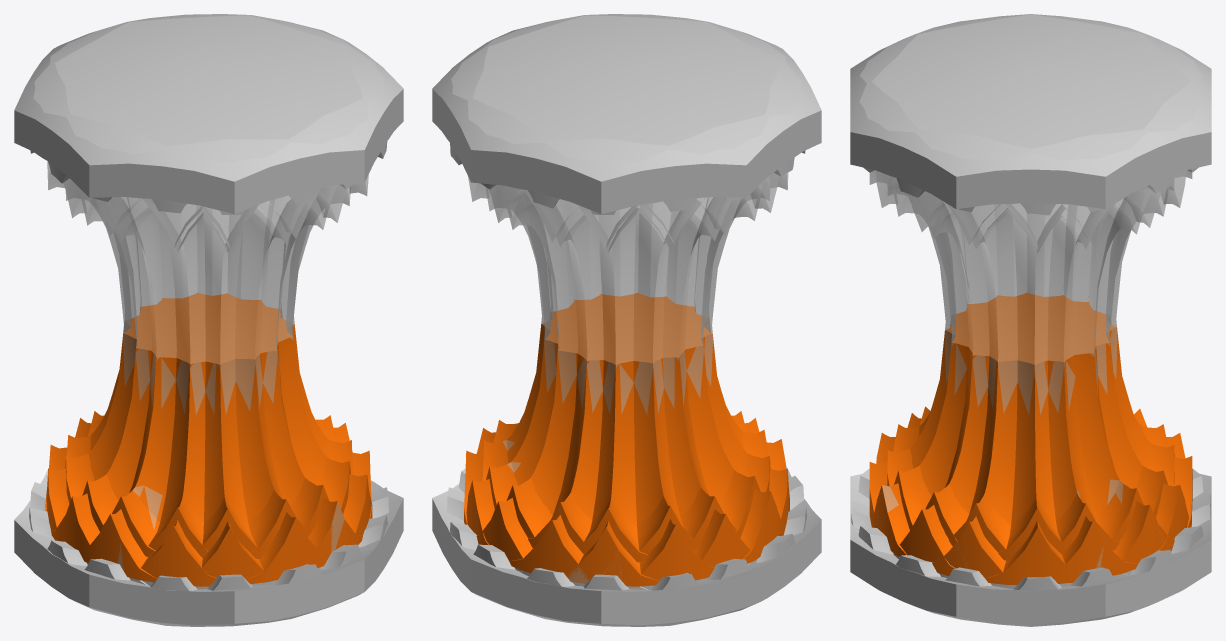
File: Glasshour.obj
3 renders of one model, left to right at view 1: azimuth 30°, elevation 25°; view 2: azimuth 150°, elevation 25°; view 3: azimuth 270°, elevation 25°, orthographic.
Parts seen in each view (by area): view 1: Frame1, Sand1, Glass1; view 2: Frame1, Sand1, Glass1; view 3: Frame1, Sand1, Glass1.
Boxes of the visible parts, <box> form: Frame1: <box>14,14,403,626</box>; Sand1: <box>45,292,372,586</box>; Glass1: <box>47,161,368,570</box>; Frame1: <box>432,14,821,626</box>; Sand1: <box>464,292,789,586</box>; Glass1: <box>468,172,788,583</box>; Frame1: <box>850,14,1211,626</box>; Sand1: <box>869,292,1192,584</box>; Glass1: <box>869,170,1192,568</box>.
Size of the model in its own units: 2 by 3.1 by 2.
